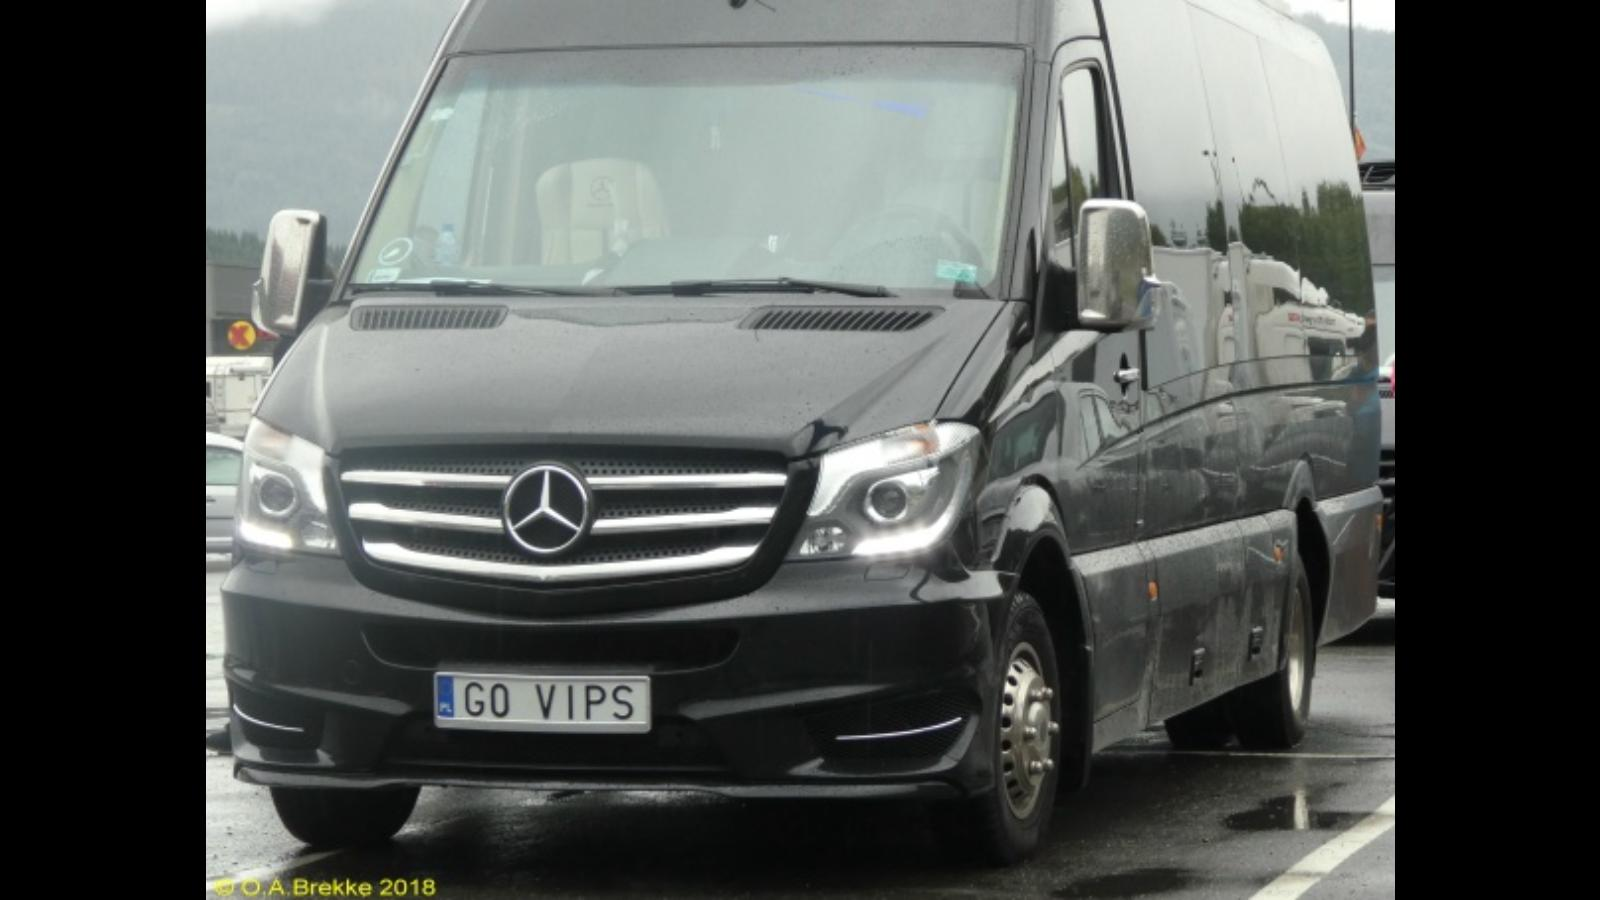plates: (434, 672, 650, 732)
